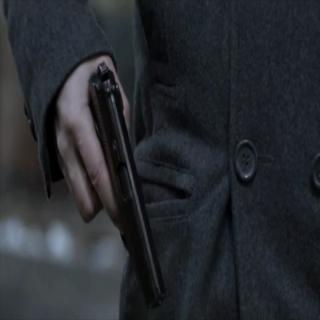gun: (84, 56, 165, 312)
